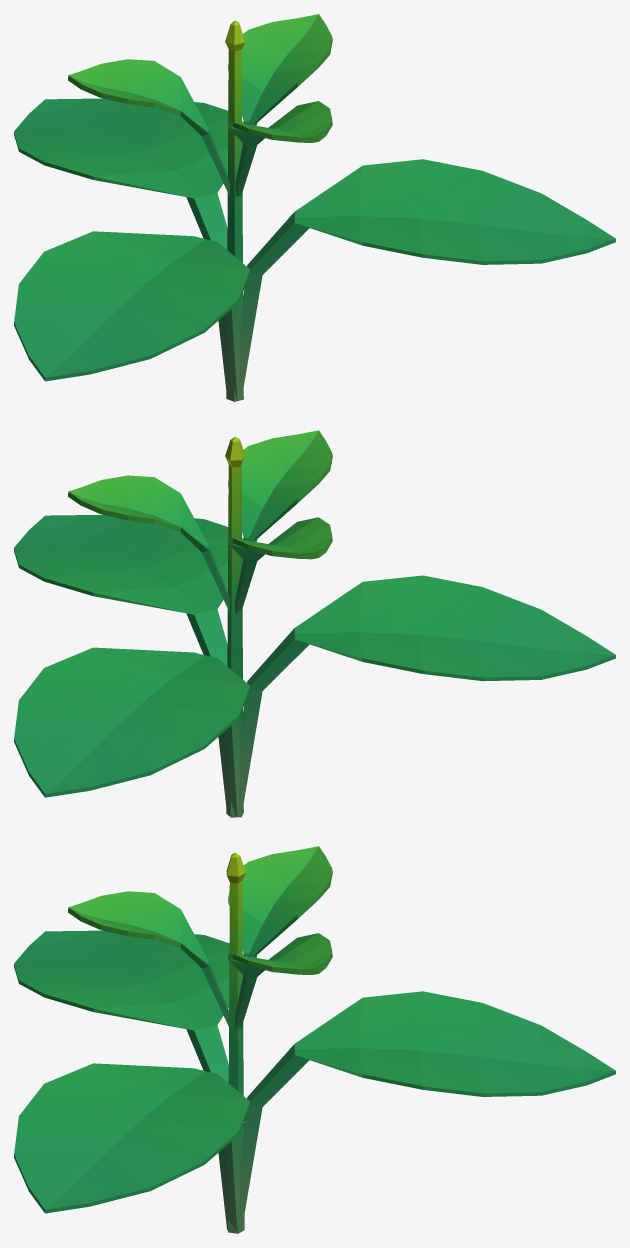
File: potato2.glb
3 renders of one model, top to bottom at view 1: azimuth 30°, elevation 25°; view 2: azimuth 150°, elevation 25°; view 3: azimuth 270°, elevation 25°, orthographic.
Visible parts, largest first — view 1: Potato2; view 2: Potato2; view 3: Potato2.
Part boxes in pixels (x1,y1,x2,y2): Potato2: [14, 14, 615, 401]; Potato2: [14, 430, 615, 817]; Potato2: [14, 846, 615, 1233].
Bounding box in the file's own units: 0.5547 × 0.3507 × 0.5066.
1 material, 1 textured.
